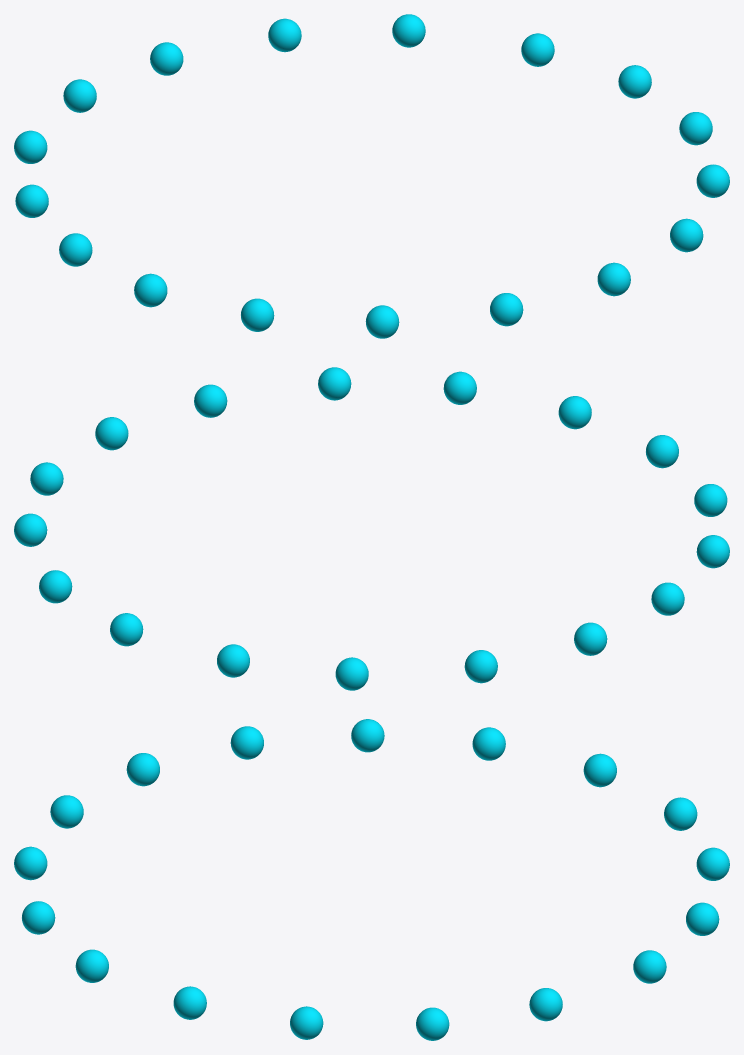
3 renders of one model, top to bottom at view 1: azimuth 30°, elevation 25°; view 2: azimuth 150°, elevation 25°; view 3: azimuth 270°, elevation 25°, orthographic.
Visible parts, largest first — view 1: Sphere050; view 2: Sphere050; view 3: Sphere050.
Part boxes in pixels (left/top/right/bottom): Sphere050: left=14, top=14, right=729, bottom=338; Sphere050: left=14, top=367, right=729, bottom=690; Sphere050: left=14, top=719, right=729, bottom=1040.
Size of the model in its own units: 176 by 8.22 by 176.
